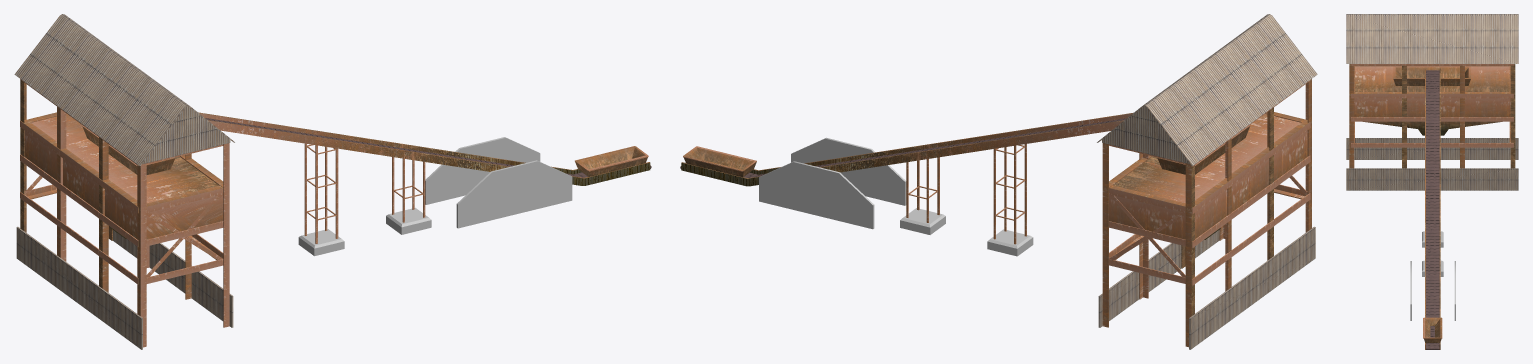
The model's file is rock_crusher_export_lod.dae.
3 views of the same model, side by side, from view 1: azimuth 30°, elevation 25°; view 2: azimuth 150°, elevation 25°; view 3: azimuth 270°, elevation 25° (orthographic). The views are drawn at different scales.
Visible parts, largest first — view 1: Mesh; view 2: Mesh; view 3: Mesh.
Part boxes in pixels (left/top/right/bottom): Mesh: left=14, top=14, right=651, bottom=349; Mesh: left=680, top=14, right=1317, bottom=349; Mesh: left=1346, top=14, right=1518, bottom=349.
Bounding box in the file's own units: 37.9 × 14.95 × 14.4.
